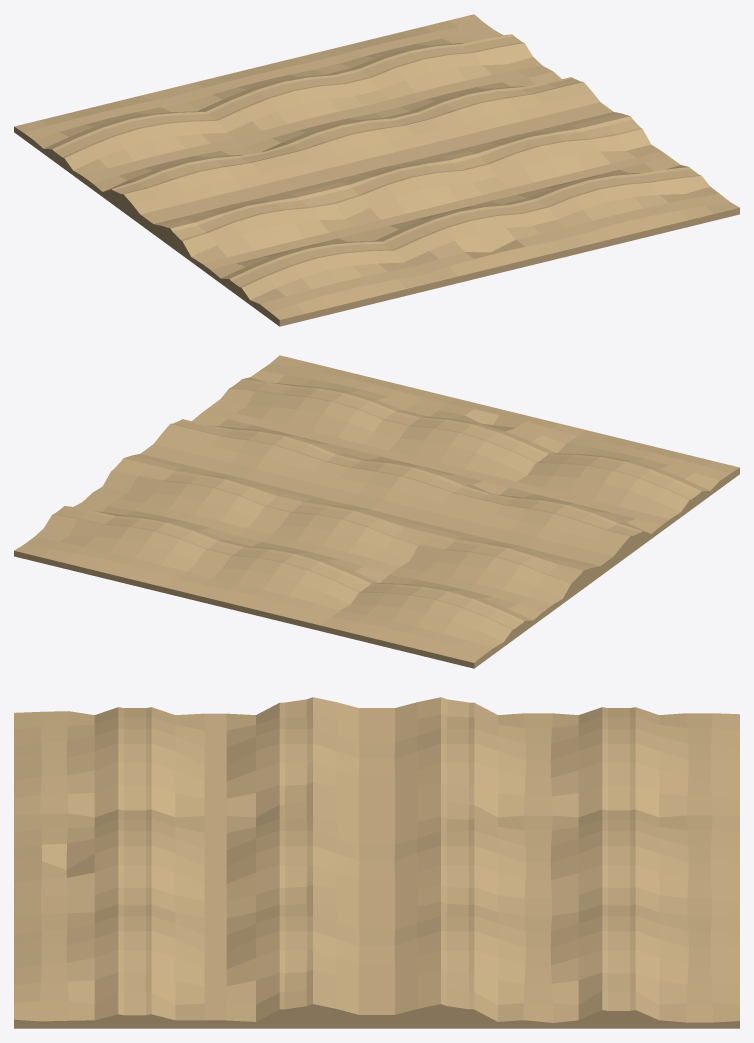
The model's file is soil_hoed.fbx.
3 renders of one model, top to bottom at view 1: azimuth 30°, elevation 25°; view 2: azimuth 150°, elevation 25°; view 3: azimuth 270°, elevation 25°, orthographic. The views are drawn at different scales.
Visible parts, largest first — view 1: Plane; view 2: Plane; view 3: Plane.
Boxes of the visible parts, x1,y1,x2,y2 form: Plane: (14,14,739,326); Plane: (14,355,739,668); Plane: (14,697,739,1028).
Bounding box in the file's own units: 200 × 9.24 × 200.
